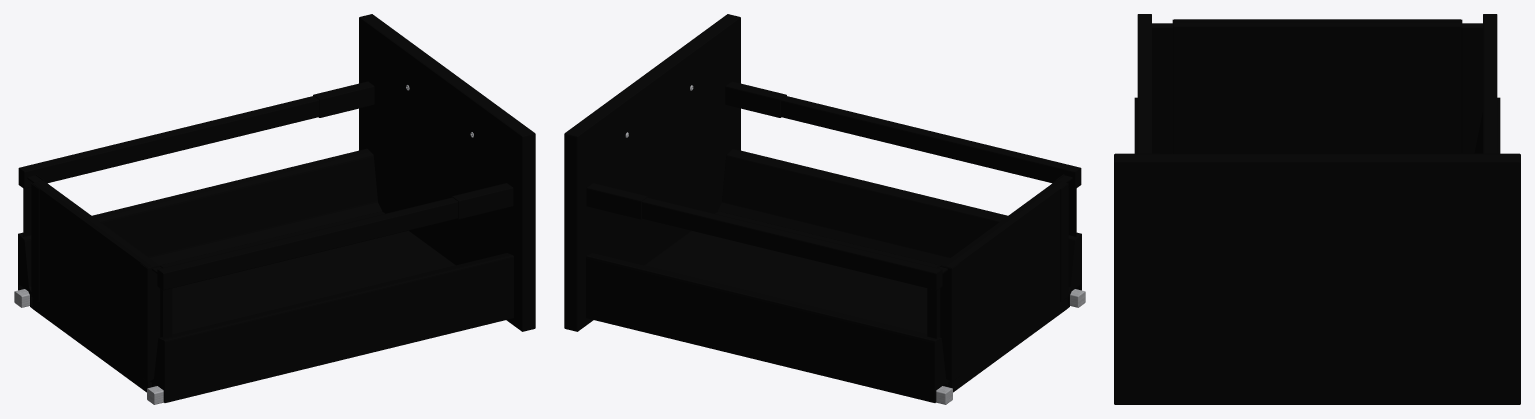
File: IAIKitchenDrawerW40H26.dae
3 renders of one model, left to right at view 1: azimuth 30°, elevation 25°; view 2: azimuth 150°, elevation 25°; view 3: azimuth 270°, elevation 25°, orthographic. The views are drawn at different scales.
Parts seen in each view (by area): view 1: SM_Kitchen_06_Base_Drawer_02; view 2: SM_Kitchen_06_Base_Drawer_02; view 3: SM_Kitchen_06_Base_Drawer_02.
Part boxes in pixels (<box>): SM_Kitchen_06_Base_Drawer_02: <box>14,14,535,404</box>; SM_Kitchen_06_Base_Drawer_02: <box>564,14,1085,404</box>; SM_Kitchen_06_Base_Drawer_02: <box>1114,14,1520,404</box>.
Size of the model in its own units: 0.5199 by 0.398 by 0.263.
4 materials, 1 textured.
